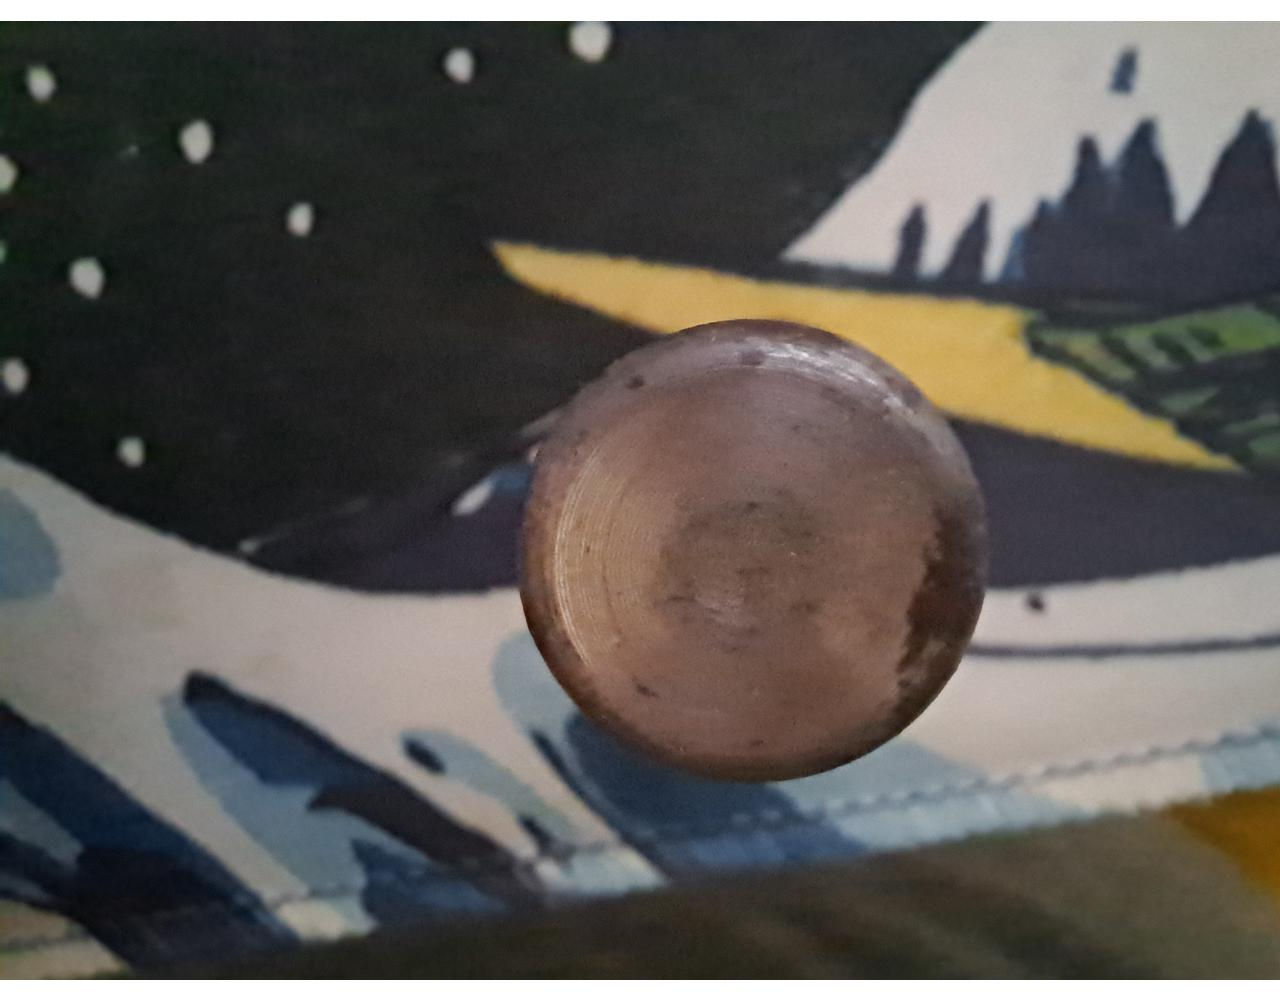planson: (517, 315, 989, 782)
